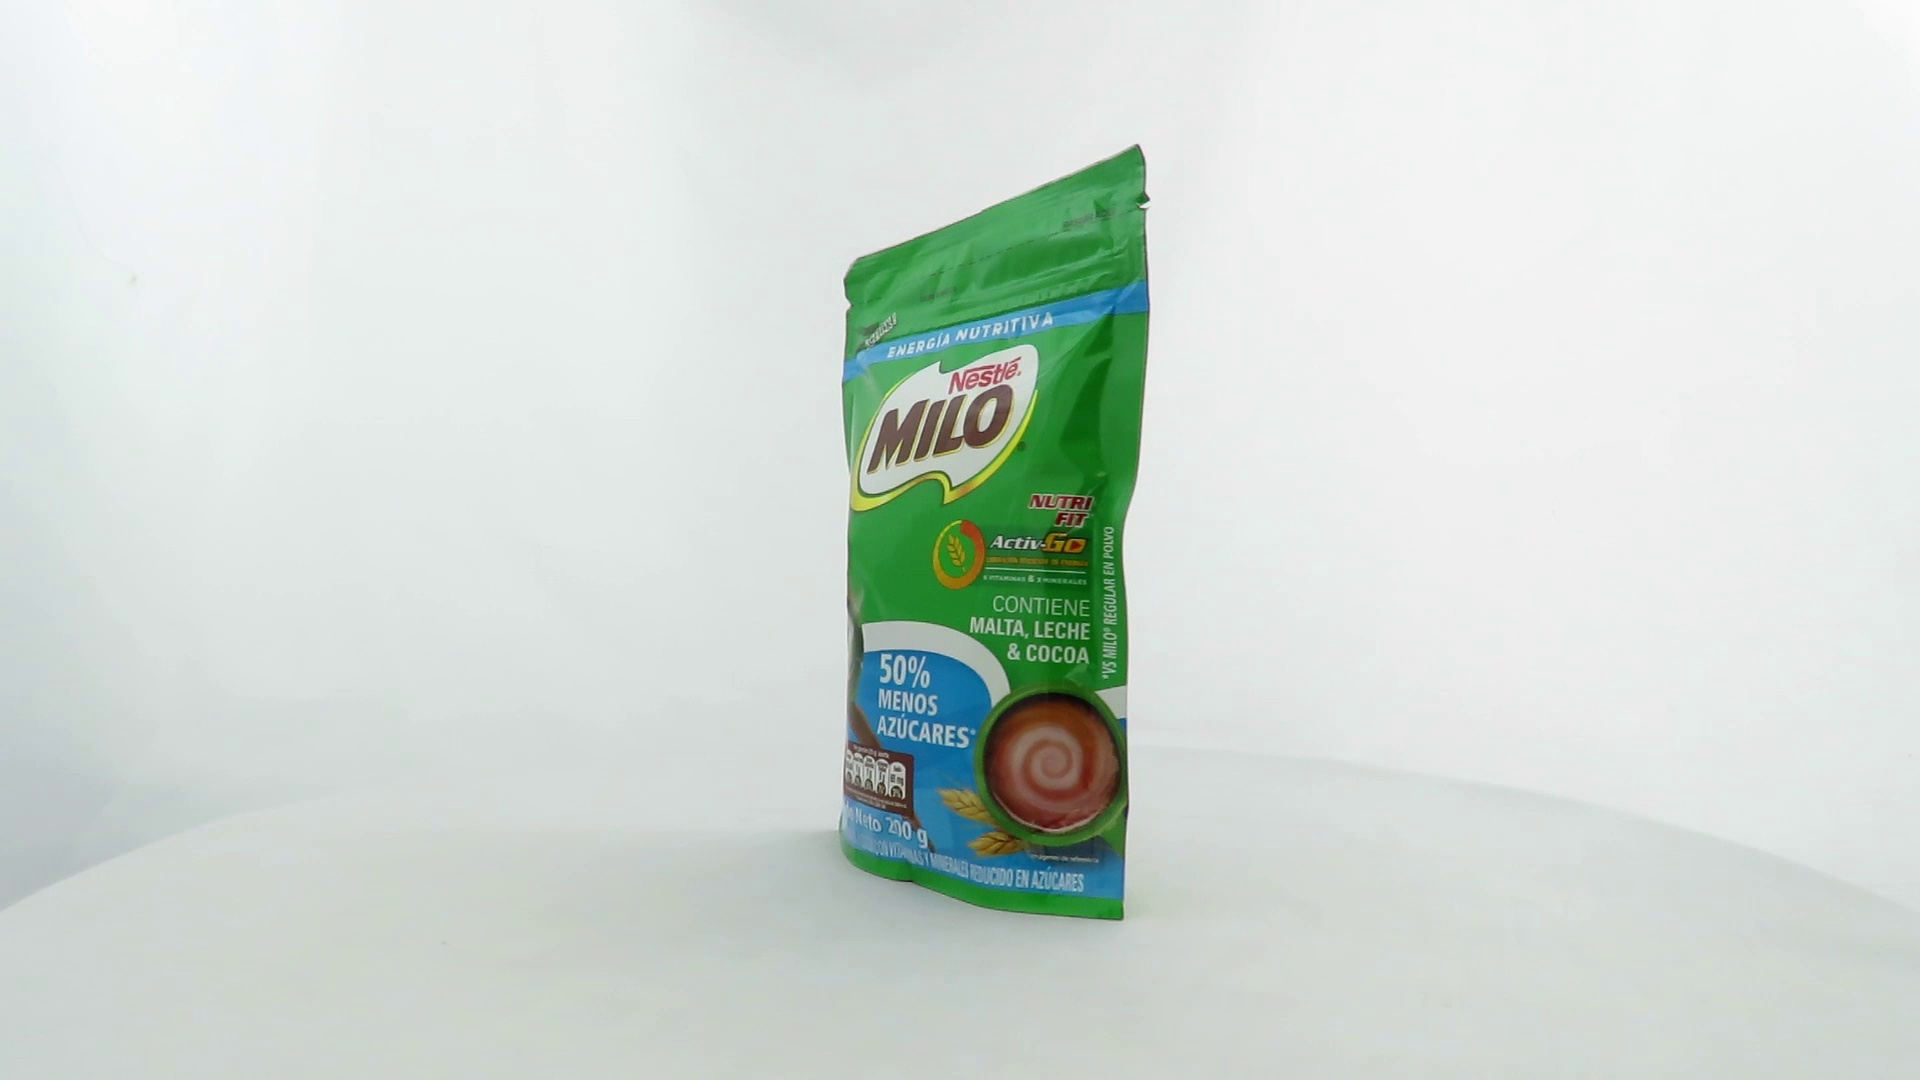COL0170205DYP20000: (833, 138, 1156, 927)
